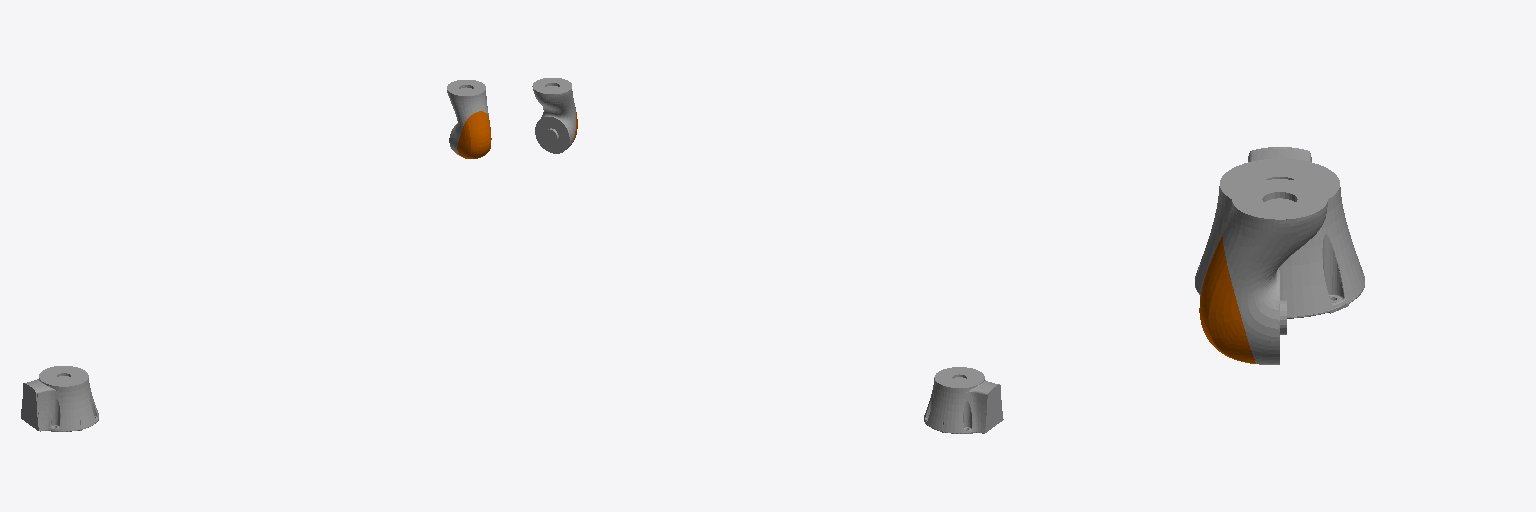
URDF robot description (kuka_kr150_2):
<?xml version="1.0" encoding="utf-8"?>
<!-- =================================================================================== -->
<!-- |    This document was autogenerated by xacro from kr150_2.xacro                  | -->
<!-- |    EDITING THIS FILE BY HAND IS NOT RECOMMENDED                                 | -->
<!-- =================================================================================== -->
<robot name="kuka_kr150_2">
  <!-- LINKS -->
  <!-- base link -->
  <link name="base_link">
    <visual>
      <origin rpy="0 0 0" xyz="0 0 0"/>
      <geometry>
        <mesh filename="./meshes/kr150_2/visual/base_link.dae"/>
      </geometry>
    </visual>
    <collision>
      <origin rpy="0 0 0" xyz="0 0 0"/>
      <geometry>
        <mesh filename="./meshes/kr150_2/collision/base_link.stl"/>
      </geometry>
    </collision>
  </link>
  <!-- link 1 (A1) -->
  <link name="link_1">
    <visual>
      <origin rpy="0 0 0" xyz="0 0 0"/>
      <geometry>
        <mesh filename="./meshes/kr150_2/visual/link_1.dae"/>
      </geometry>
    </visual>
    <collision>
      <origin rpy="0 0 0" xyz="0 0 0"/>
      <geometry>
        <mesh filename="./meshes/kr150_2/collision/link_1.stl"/>
      </geometry>
    </collision>
  </link>
  <!-- link 2 -->
  <link name="link_2">
    <visual>
      <origin rpy="0 0 0" xyz="0 0 0"/>
      <geometry>
        <mesh filename="./meshes/kr150_2/visual/link_2.dae"/>
      </geometry>
    </visual>
    <collision>
      <origin rpy="0 0 0" xyz="0 0 0"/>
      <geometry>
        <mesh filename="./meshes/kr150_2/collision/link_2.stl"/>
      </geometry>
    </collision>
  </link>
  <!-- link 3 -->
  <link name="link_3">
    <visual>
      <origin rpy="0 0 0" xyz="0 0 0"/>
      <geometry>
        <mesh filename="./meshes/kr150_2/visual/link_3.dae"/>
      </geometry>
    </visual>
    <collision>
      <origin rpy="0 0 0" xyz="0 0 0"/>
      <geometry>
        <mesh filename="./meshes/kr150_2/collision/link_3.stl"/>
      </geometry>
    </collision>
  </link>
  <!-- link 4 -->
  <link name="link_4">
    <visual>
      <origin rpy="0 0 0" xyz="0 0 0"/>
      <geometry>
        <mesh filename="./meshes/kr150_2/visual/link_4.dae"/>
      </geometry>
    </visual>
    <collision>
      <origin rpy="0 0 0" xyz="0 0 0"/>
      <geometry>
        <mesh filename="./meshes/kr150_2/collision/link_4.stl"/>
      </geometry>
    </collision>
  </link>
  <!-- link 5 -->
  <link name="link_5">
    <visual>
      <origin rpy="0 0 0" xyz="0 0 0"/>
      <geometry>
        <mesh filename="./meshes/kr150_2/visual/link_5.dae"/>
      </geometry>
    </visual>
    <collision>
      <origin rpy="0 0 0" xyz="0 0 0"/>
      <geometry>
        <mesh filename="./meshes/kr150_2/collision/link_5.stl"/>
      </geometry>
    </collision>
  </link>
  <!-- link 6 -->
  <link name="link_6">
    <visual>
      <origin rpy="0 0 0" xyz="0 0 0"/>
      <geometry>
        <mesh filename="./meshes/kr150_2/visual/link_6.dae"/>
      </geometry>
    </visual>
    <collision>
      <origin rpy="0 0 0" xyz="0 0 0"/>
      <geometry>
        <mesh filename="./meshes/kr150_2/collision/link_6.stl"/>
      </geometry>
    </collision>
  </link>
  <!-- tool link -->
  <!-- This frame corresponds to the $FLANGE coordinate system in KUKA KRC controllers. -->
  <link name="tool0"/>
  <!-- END LINKS -->
  <!-- JOINTS -->
  <!-- joint 1 (A1) -->
  <joint name="joint_a1" type="revolute">
    <origin rpy="0 0 0" xyz="0 0 0.75"/>
    <parent link="base_link"/>
    <child link="link_1"/>
    <axis xyz="0 0 -1"/>
    <limit effort="0" lower="-3.22885911619" upper="3.22885911619" velocity="1.91986217719"/>
  </joint>
  <!-- joint 2 (A2) -->
  <joint name="joint_a2" type="revolute">
    <origin rpy="0 0 0" xyz="0.35 0 0"/>
    <parent link="link_1"/>
    <child link="link_2"/>
    <axis xyz="0 1 0"/>
    <limit effort="0" lower="-2.54818070791" upper="0.0" velocity="1.91986217719"/>
  </joint>
  <!-- joint 3 (A3) -->
  <joint name="joint_a3" type="revolute">
    <origin rpy="0 0 0" xyz="1.25 0 0"/>
    <parent link="link_2"/>
    <child link="link_3"/>
    <axis xyz="0 1 0"/>
    <limit effort="0" lower="-2.07694180987" upper="2.70526034059" velocity="1.74532925199"/>
  </joint>
  <!-- joint 4 (A4) -->
  <joint name="joint_a4" type="revolute">
    <origin rpy="0 0 0" xyz="0 0 -0.055"/>
    <parent link="link_3"/>
    <child link="link_4"/>
    <axis xyz="-1 0 0"/>
    <limit effort="0" lower="-6.10865238198" upper="6.10865238198" velocity="2.96705972839"/>
  </joint>
  <!-- joint 5 (A5) -->
  <joint name="joint_a5" type="revolute">
    <origin rpy="0 0 0" xyz="1.1 0 0"/>
    <parent link="link_4"/>
    <child link="link_5"/>
    <axis xyz="0 1 0"/>
    <limit effort="0" lower="-2.18166156499" upper="2.18166156499" velocity="2.96705972839"/>
  </joint>
  <!-- joint 6 (A6) -->
  <joint name="joint_a6" type="revolute">
    <origin rpy="0 0 0" xyz="0.23 0 0"/>
    <parent link="link_5"/>
    <child link="link_6"/>
    <axis xyz="-1 0 0"/>
    <limit effort="0" lower="-6.10865238198" upper="6.10865238198" velocity="4.15388361975"/>
  </joint>
  <!-- tool frame - fixed frame -->
  <joint name="joint_a6-tool0" type="fixed">
    <parent link="link_6"/>
    <child link="tool0"/>
    <origin rpy="0 1.57079632679 0" xyz="0 0 0"/>
  </joint>
  <!-- END JOINTS -->
  <!-- ROS base_link to KUKA $ROBROOT coordinate system transform -->
  <link name="base"/>
  <joint name="base_link-base" type="fixed">
    <origin rpy="0 0 0" xyz="0 0 0"/>
    <parent link="base_link"/>
    <child link="base"/>
  </joint>
</robot>

--- Facts derived from the render (not from the file) ---
Views: 3 orthographic renders of the robot side by side, from view 1: azimuth 30°, elevation 25°; view 2: azimuth 150°, elevation 25°; view 3: azimuth 270°, elevation 25°.
Robot: kuka_kr150_2 — 9 links, 8 joints (6 revolute, 2 fixed); root link base_link; default pose: all joints at 0.
Links seen in each view (by area): view 1: base_link, link_4; view 2: base_link, link_4; view 3: link_4, base_link.
Boxes of the visible links, x1,y1,x2,y2 form: base_link: [21, 366, 98, 431]; link_4: [447, 80, 491, 158]; base_link: [924, 367, 1003, 433]; link_4: [532, 78, 577, 153]; link_4: [1199, 179, 1327, 364]; base_link: [1195, 147, 1364, 318].
Size in the robot's own frame: 1.8 by 0.2426 by 0.8795 metres.
Meshes: 7 distinct files referenced, 2 mesh visuals loaded (2 Collada DAE); not drawn: 5 (reference not matched to a file when rendering).